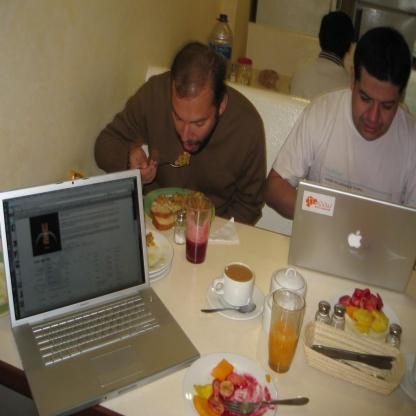board: (1, 166, 202, 413), (288, 181, 416, 292), (209, 13, 233, 81), (173, 210, 186, 245), (330, 303, 346, 330), (386, 322, 401, 348), (315, 301, 331, 325)
